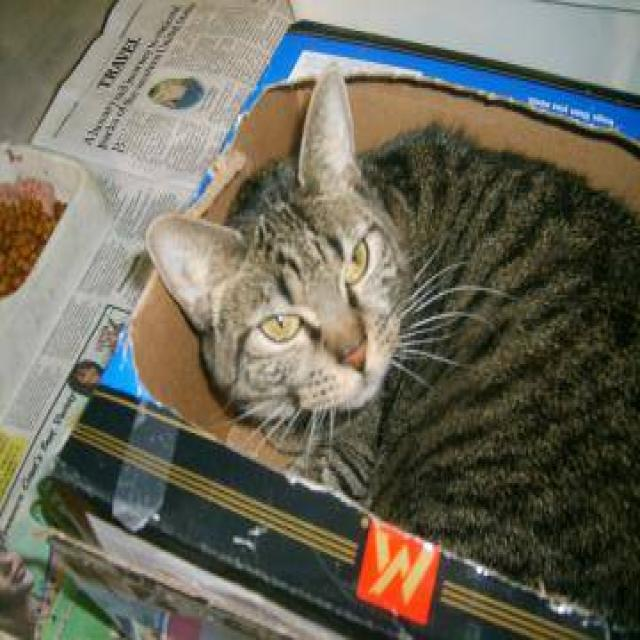cat: (144, 60, 638, 638)
